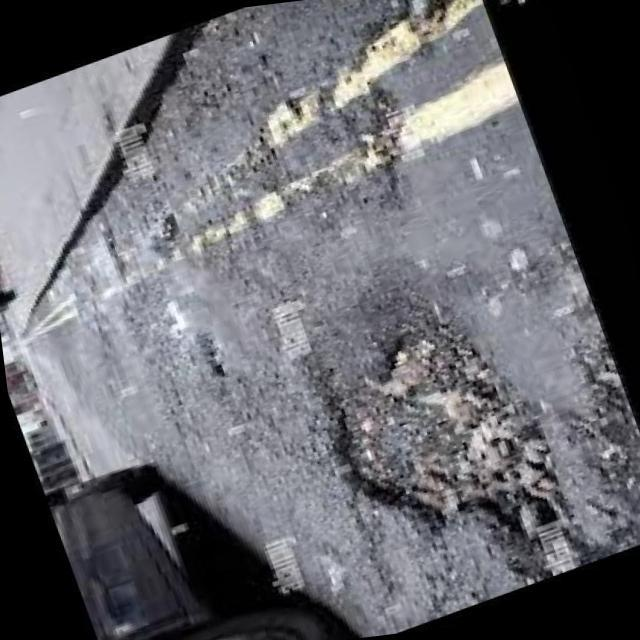pothole: (284, 288, 573, 582)
